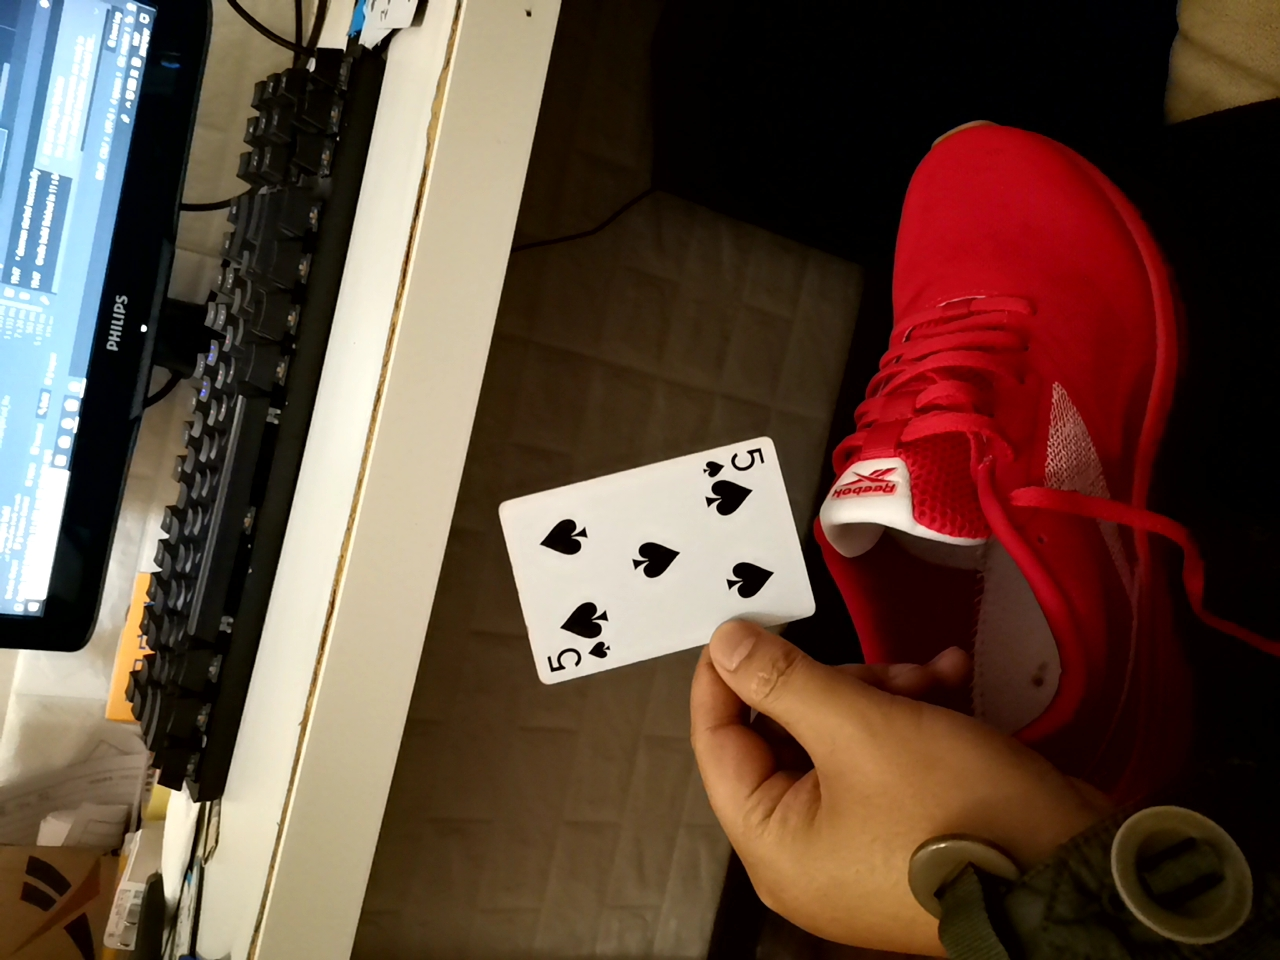ht 5: (487, 421, 844, 695)
